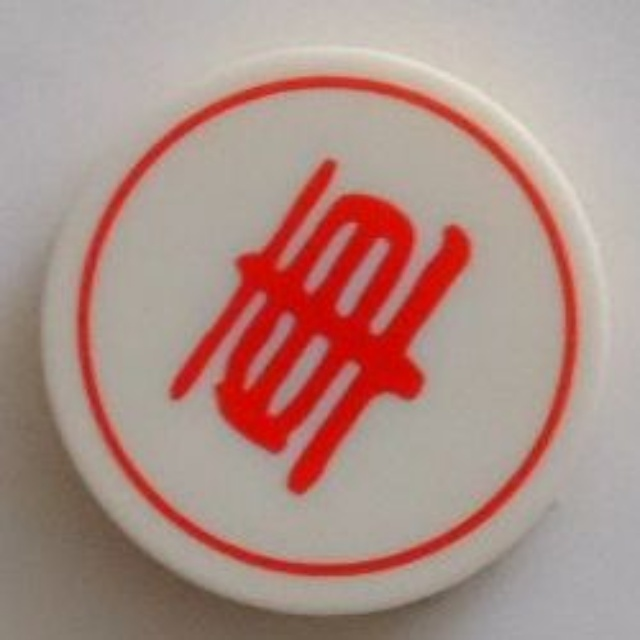red_xe: (42, 37, 622, 621)
